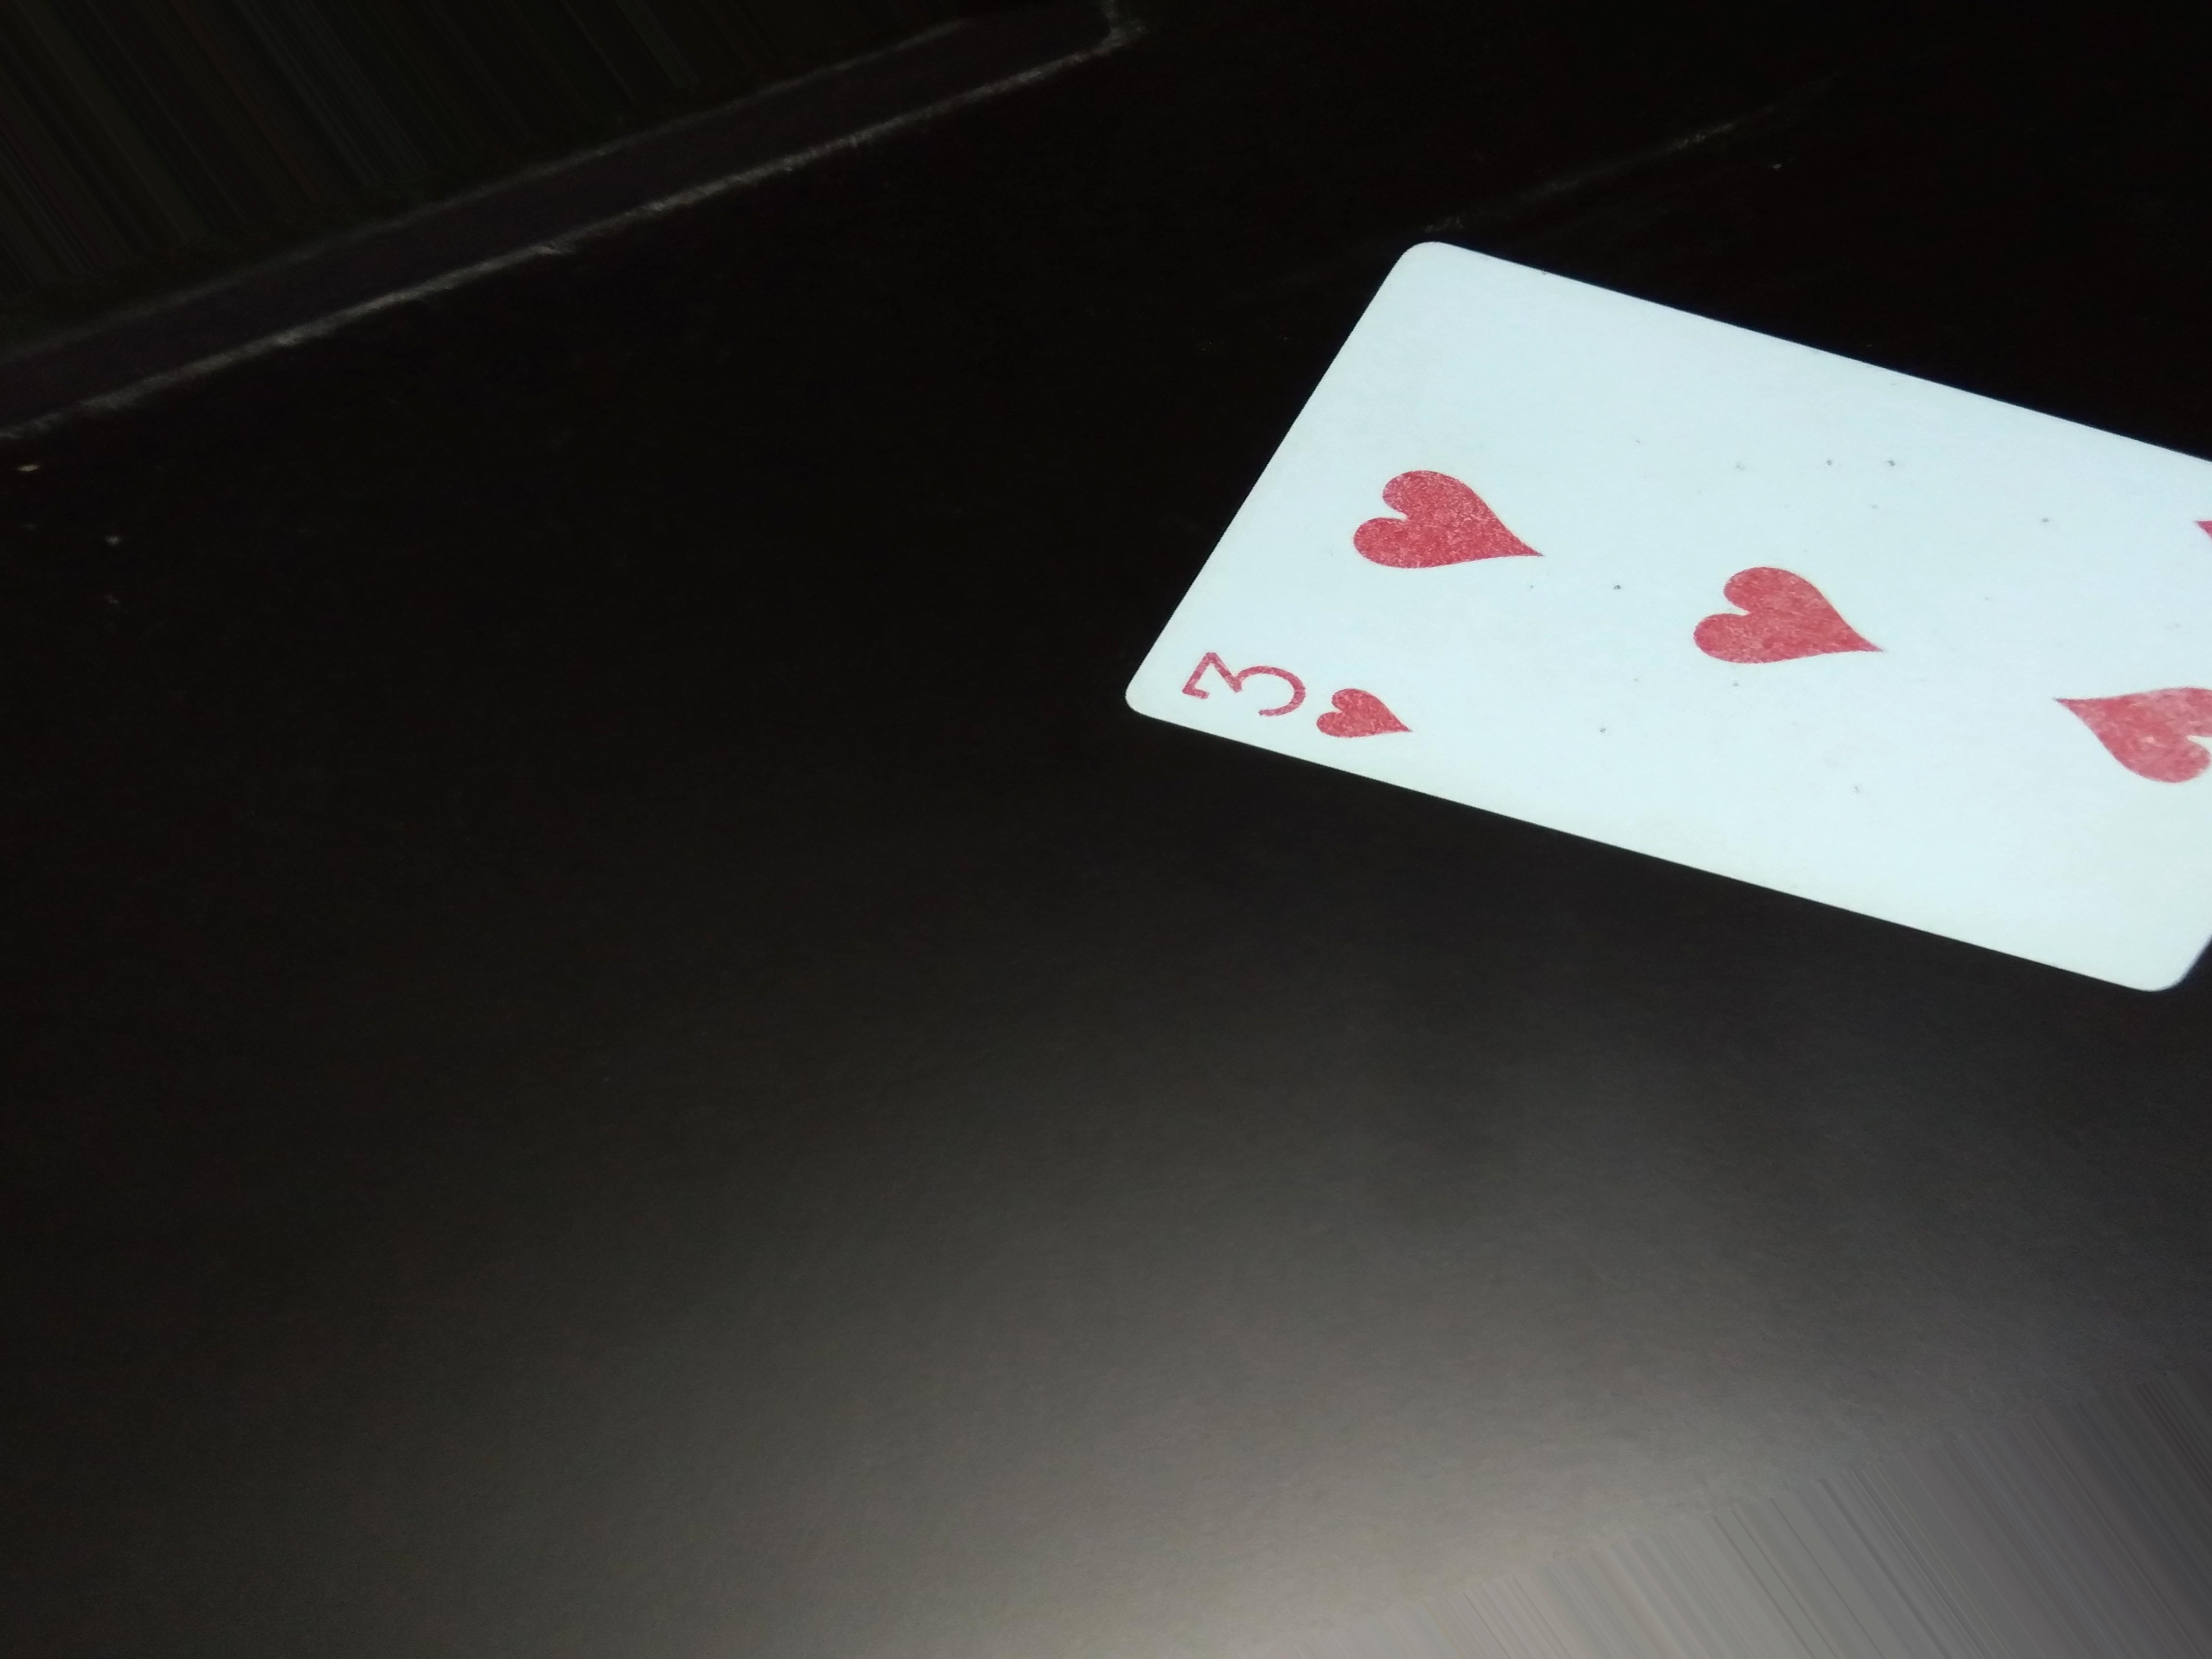3H: (1174, 647, 1426, 753)
